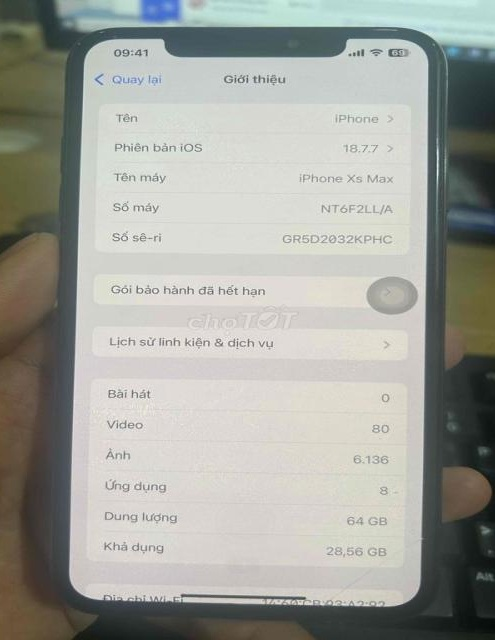scratch: (75, 23, 136, 51)
